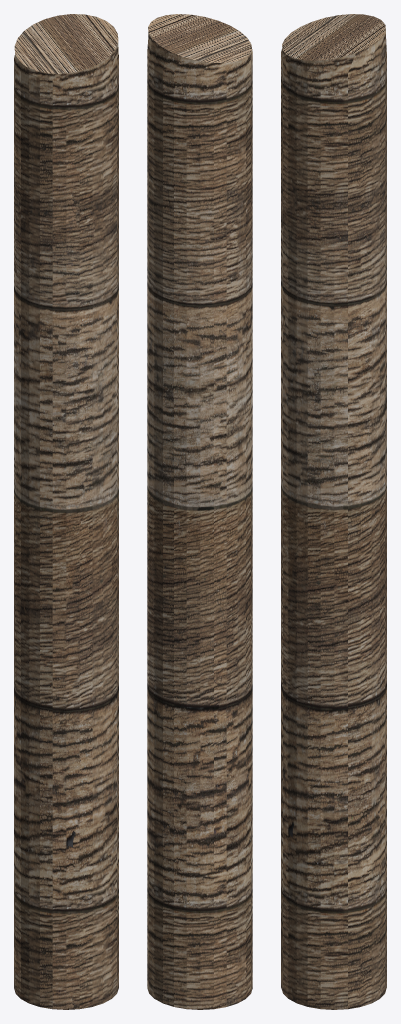
Rendered from viga Plataforma  madera.fbx.
The picture shows the model from 3 angles, left to right: view 1: azimuth 30°, elevation 25°; view 2: azimuth 150°, elevation 25°; view 3: azimuth 330°, elevation 25°; orthographic projection.
Parts seen in each view (by area): view 1: Viga; view 2: Viga; view 3: Viga.
Part boxes in pixels (x1,y1,x2,y2): Viga: [14, 14, 118, 1009]; Viga: [147, 14, 252, 1009]; Viga: [281, 14, 386, 1009].
Bounding box in the file's own units: 42.78 × 427 × 42.29.
Materials: 1 (1 with a texture image).
